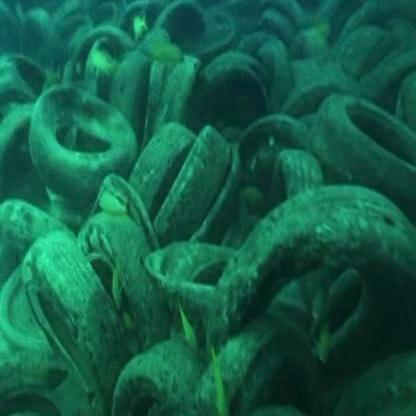tire: (216, 203, 398, 386), (83, 82, 206, 231), (44, 208, 162, 363), (319, 76, 416, 231), (15, 86, 121, 207), (198, 56, 292, 155)
